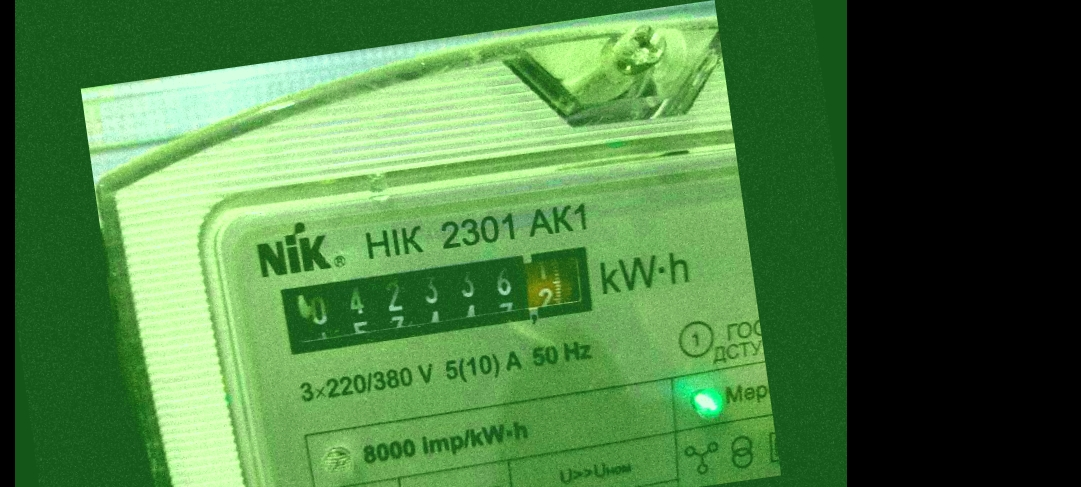0: (307, 291, 330, 327)
1: (534, 254, 549, 282)
2: (382, 277, 407, 313), (535, 285, 555, 308)
3: (418, 271, 440, 305), (457, 266, 478, 300)
4: (346, 282, 367, 316)
6: (492, 262, 516, 299)
screen: (266, 230, 611, 367)
